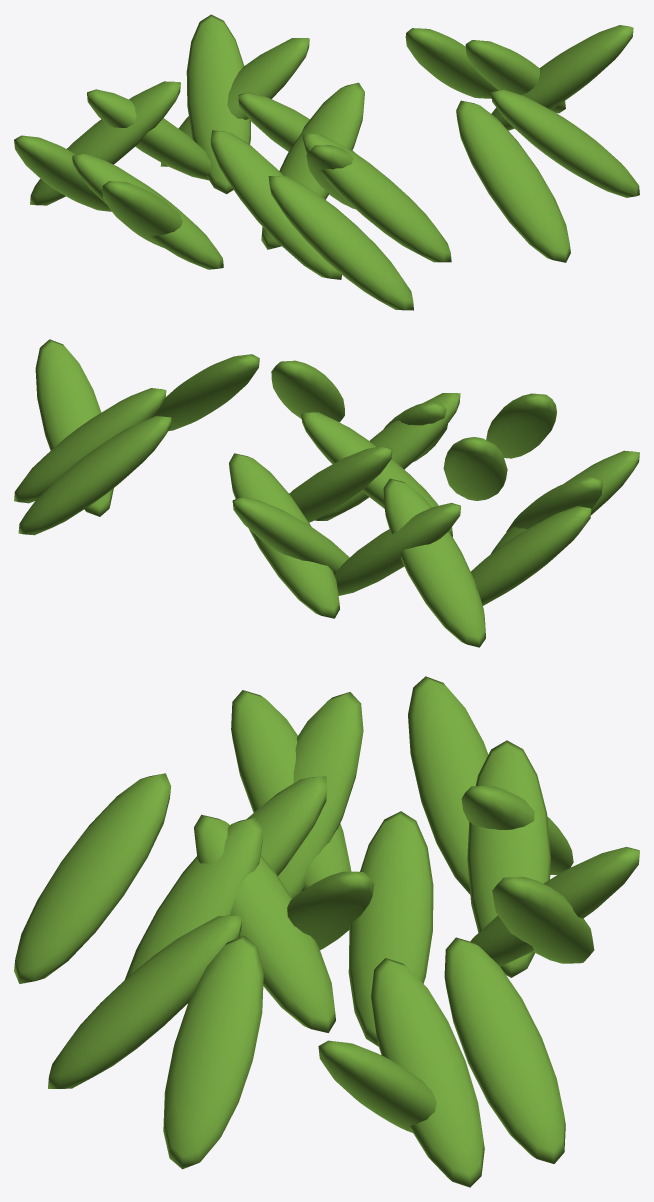
Rendered from NJD-18.glb.
3 views of the same model, one above another, from view 1: azimuth 30°, elevation 25°; view 2: azimuth 150°, elevation 25°; view 3: azimuth 270°, elevation 25° (orthographic). The views are drawn at different scales.
Visible parts, largest first — view 1: leaf.001, leaf.015, leaf.004, leaf.005, leaf.013, leaf.002, leaf.007, leaf.009, leaf.003, leaf.017, leaf.014, leaf.011 (+6 smaller); view 2: leaf.009, leaf.011, leaf, leaf.007, leaf.016, leaf.012, leaf.017, leaf.004, leaf.013, leaf.008, leaf.003, leaf.002 (+6 smaller); view 3: leaf.013, leaf.011, leaf.015, leaf.012, leaf.001, leaf.008, leaf.006, leaf.016, leaf.017, leaf.014, leaf.005, leaf.010 (+6 smaller).
Boxes of the visible parts, x1=… form: leaf.001: x1=456, y1=100, x2=570, y2=262; leaf.015: x1=268, y1=176, x2=413, y2=310; leaf.004: x1=186, y1=14, x2=250, y2=194; leaf.005: x1=302, y1=134, x2=451, y2=262; leaf.013: x1=491, y1=89, x2=639, y2=197; leaf.002: x1=210, y1=130, x2=341, y2=279; leaf.007: x1=491, y1=25, x2=633, y2=130; leaf.009: x1=30, y1=81, x2=180, y2=205; leaf.003: x1=261, y1=82, x2=364, y2=249; leaf.017: x1=87, y1=89, x2=210, y2=180; leaf.014: x1=72, y1=153, x2=223, y2=269; leaf.011: x1=405, y1=28, x2=498, y2=98; leaf.009: x1=383, y1=478, x2=485, y2=647; leaf.011: x1=18, y1=416, x2=171, y2=535; leaf: x1=229, y1=453, x2=339, y2=618; leaf.007: x1=35, y1=339, x2=113, y2=516; leaf.016: x1=471, y1=506, x2=591, y2=605; leaf.012: x1=14, y1=388, x2=166, y2=503; leaf.017: x1=334, y1=502, x2=460, y2=595; leaf.004: x1=232, y1=497, x2=349, y2=574; leaf.013: x1=153, y1=354, x2=259, y2=430; leaf.008: x1=289, y1=446, x2=392, y2=522; leaf.003: x1=301, y1=412, x2=452, y2=536; leaf.002: x1=443, y1=437, x2=507, y2=500; leaf.013: x1=163, y1=936, x2=263, y2=1169; leaf.011: x1=444, y1=937, x2=565, y2=1163; leaf.015: x1=14, y1=773, x2=171, y2=983; leaf.012: x1=371, y1=958, x2=484, y2=1187; leaf.001: x1=48, y1=915, x2=242, y2=1088; leaf.008: x1=348, y1=811, x2=433, y2=1046; leaf.006: x1=194, y1=814, x2=335, y2=1032; leaf.016: x1=408, y1=676, x2=488, y2=894; leaf.017: x1=467, y1=740, x2=550, y2=977; leaf.014: x1=278, y1=692, x2=363, y2=898; leaf.005: x1=125, y1=817, x2=263, y2=979; leaf.010: x1=231, y1=690, x2=351, y2=890.
Bounding box in the file's own units: 1.68 × 0.3269 × 1.19.
